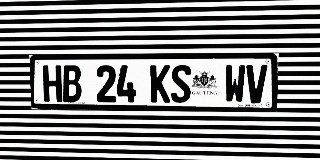2: (96, 65, 116, 102)
4: (116, 65, 136, 102)
B: (62, 65, 82, 102)
H: (43, 65, 62, 102)
K: (150, 65, 170, 103)
S: (171, 65, 191, 103)
V: (246, 65, 267, 103)
W: (224, 65, 246, 103)
